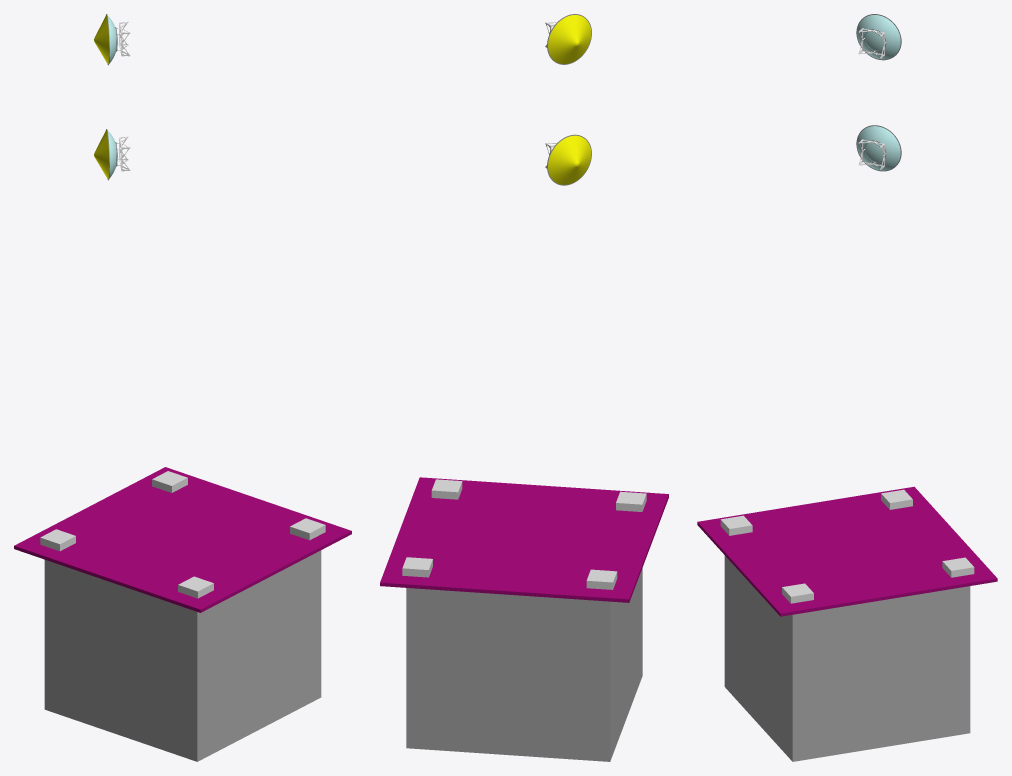
Rendered from ang嘉手納.glb.
The picture shows the model from 3 angles, left to right: view 1: azimuth 30°, elevation 25°; view 2: azimuth 150°, elevation 25°; view 3: azimuth 270°, elevation 25°; orthographic projection. The views are drawn at different scales.
Visible parts, largest first — view 1: group_44, group_50; view 2: group_44, group_50, group_8.002, group_39.002, group_46, group_48, group_47, group_49; view 3: group_44, group_50, group_43, group_20.
Part boxes in pixels (x1,y1,x2,y2): group_44: [44, 550, 321, 761]; group_50: [14, 467, 351, 612]; group_44: [406, 568, 642, 761]; group_50: [380, 477, 668, 602]; group_8.002: [548, 135, 591, 184]; group_39.002: [548, 15, 591, 63]; group_46: [586, 569, 617, 589]; group_48: [431, 479, 462, 499]; group_47: [402, 557, 432, 577]; group_49: [616, 491, 646, 511]; group_44: [724, 555, 970, 761]; group_50: [697, 486, 997, 616]; group_43: [857, 15, 900, 59]; group_20: [857, 126, 900, 170].
Size of the model in its own units: 12.23 by 30.01 by 12.23.
